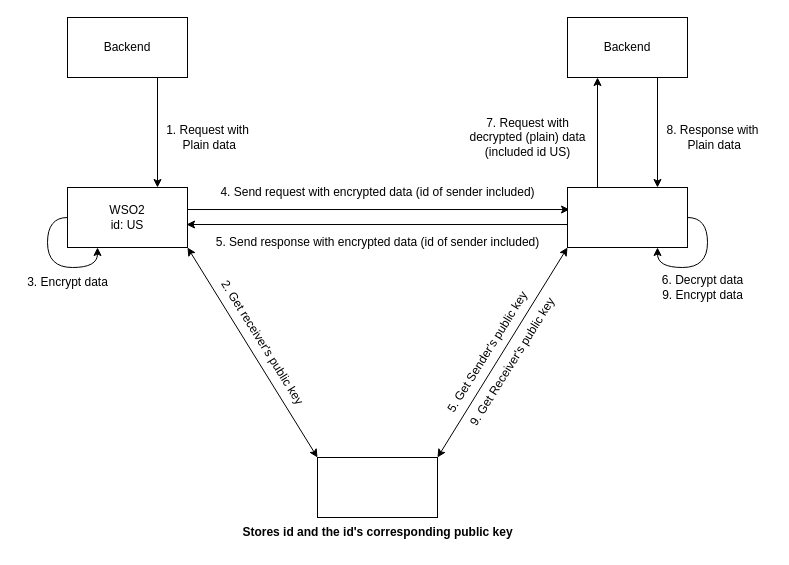
Image size: 789x565. Some labels were removed from this diagram. The shapes that lost their labels are listed below. From the top down, each one's box as (x1, y1, x2, y2) in pixels, then its label:
(566, 186, 688, 248): WSO2 id: BR
(316, 456, 438, 518): Centralized Public Key Manager Service
